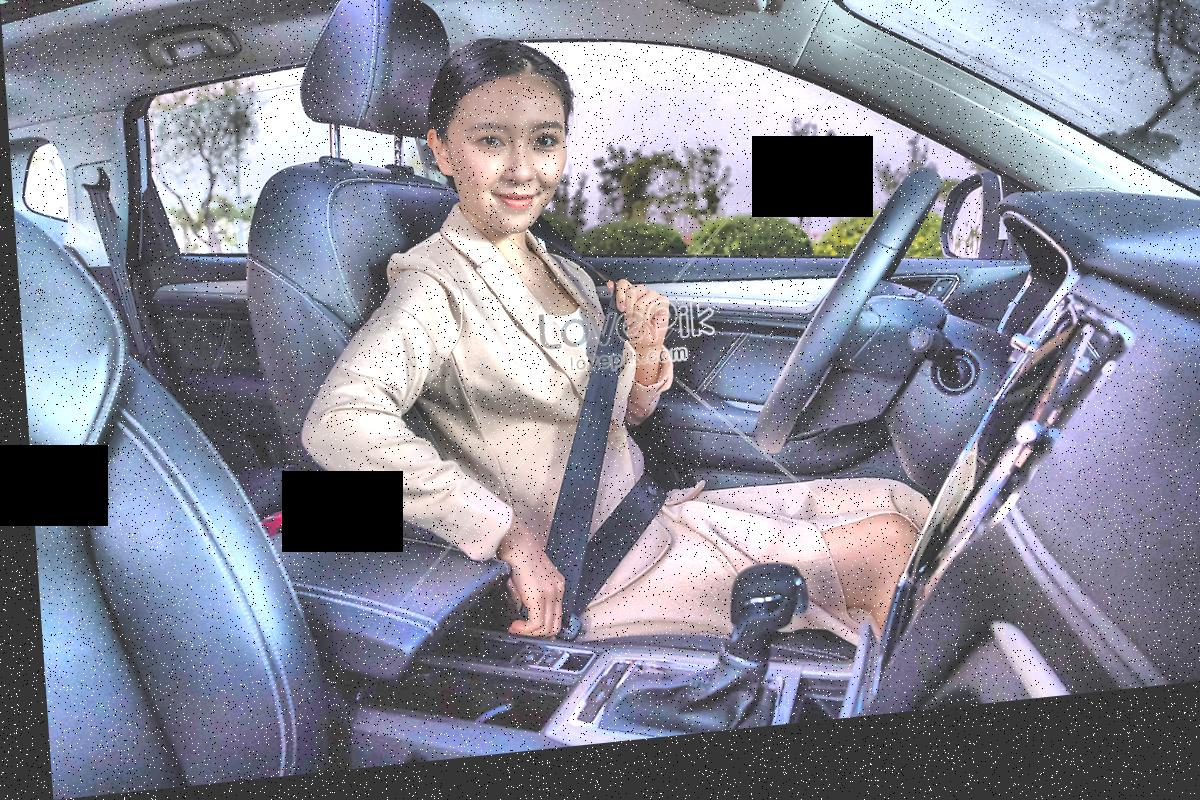seatbelt: (501, 219, 653, 651)
